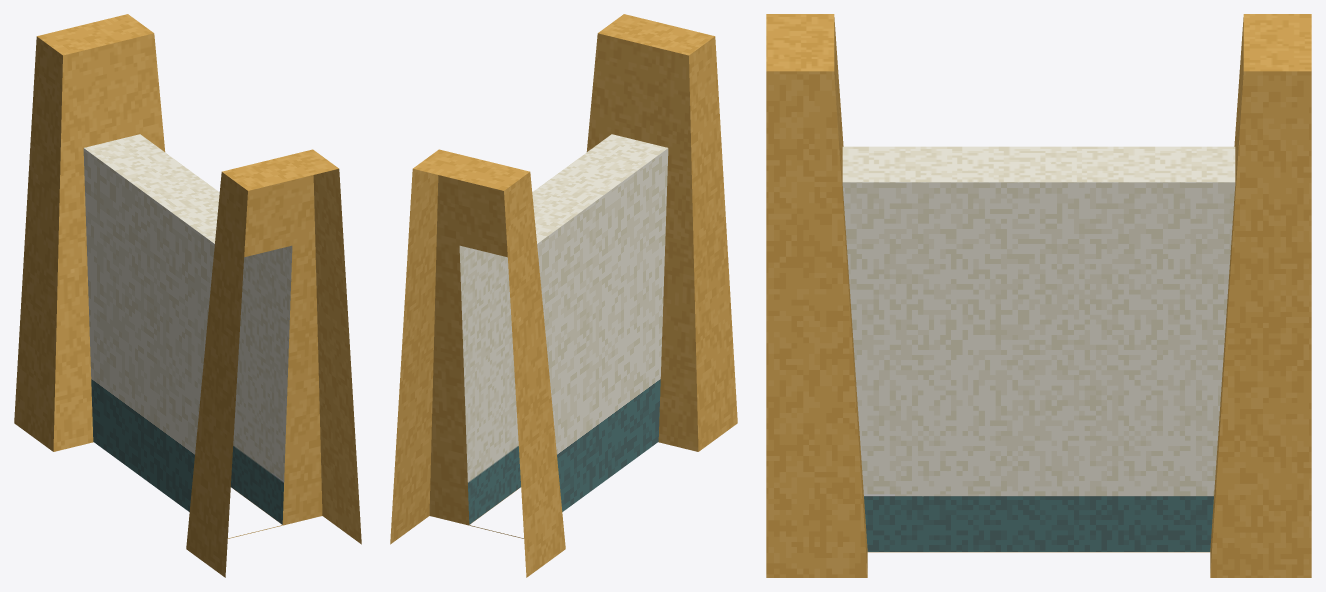
File: MurallaEnMedioGrecia.fbx
3 renders of one model, left to right at view 1: azimuth 30°, elevation 25°; view 2: azimuth 150°, elevation 25°; view 3: azimuth 270°, elevation 25°, orthographic. The views are drawn at different scales.
Visible parts, largest first — view 1: MurallaEnMedio; view 2: MurallaEnMedio; view 3: MurallaEnMedio.
Part boxes in pixels (left/top/right/bottom): MurallaEnMedio: left=14, top=14, right=361, bottom=577; MurallaEnMedio: left=390, top=14, right=737, bottom=577; MurallaEnMedio: left=766, top=14, right=1311, bottom=577.
Bounding box in the file's own units: 299 × 799 × 802.
